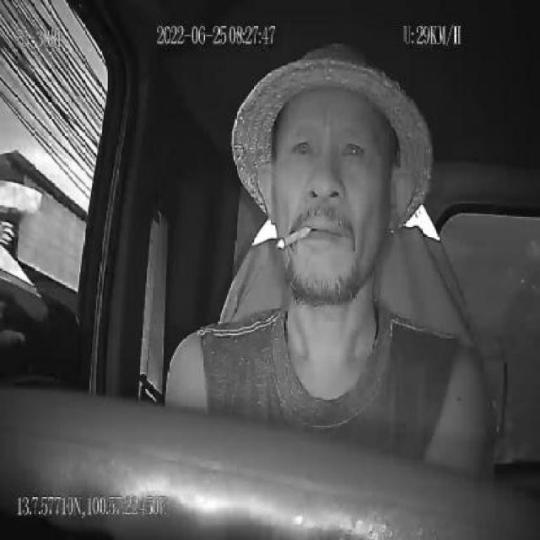smoking: (275, 220, 313, 254)
